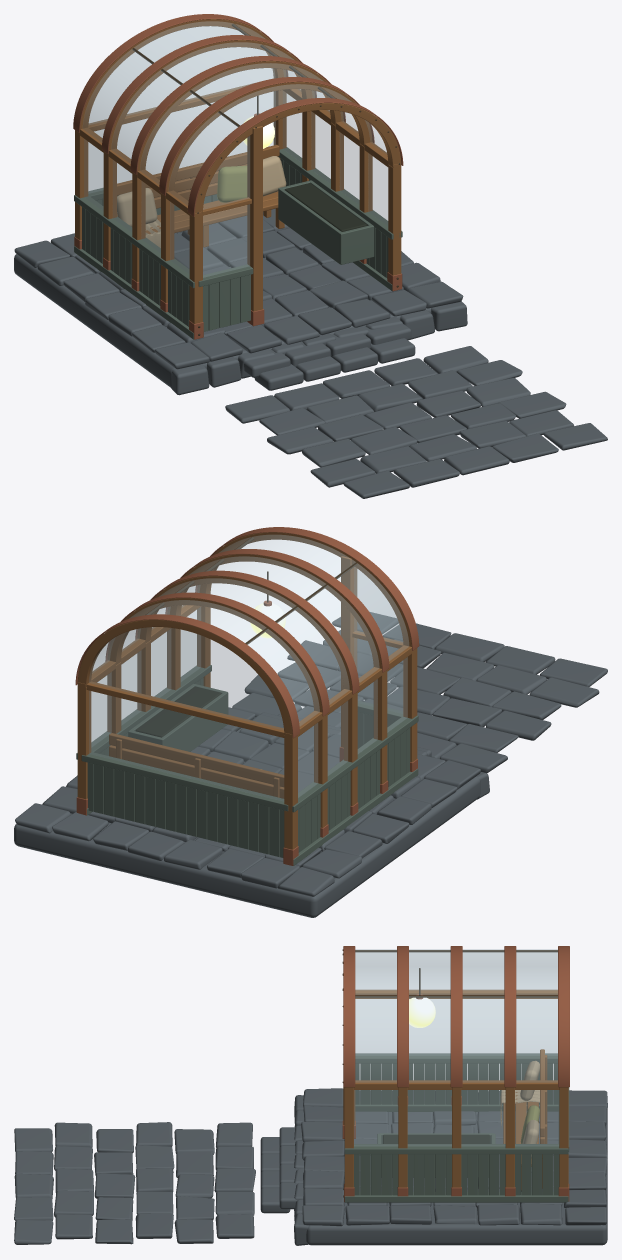
File: refuge.glb
The picture shows the model from 3 angles, top to bottom: view 1: azimuth 30°, elevation 25°; view 2: azimuth 150°, elevation 25°; view 3: azimuth 270°, elevation 25°; orthographic projection. The views are drawn at different scales.
Parts seen in each view (by area): view 1: Opaque_Basalt, Opaque_Oak, Opaque_Sage, Opaque_Copper, GlassPane_21, GlassPane_20, Opaque_Linen, GlassPane_22, GlassPane_02, GlassPane_05, GlassPane_11, GlassPane_08 (+15 smaller); view 2: Opaque_Basalt, Opaque_Oak, Opaque_Sage, GlassPane_20, GlassPane_21, Opaque_Copper, GlassPane_11, GlassPane_02, GlassPane_05, GlassPane_08, GlassPane_07, GlassPane_04 (+14 smaller); view 3: Opaque_Basalt, Opaque_Sage, Opaque_Copper, Opaque_Oak, GlassPane_00, GlassPane_03, GlassPane_09, GlassPane_06, GlassPane_18, GlassPane_16, GlassPane_17, GlassPane_19 (+16 smaller).
Boxes of the visible parts, x1=… form: Opaque_Basalt: x1=14, y1=208, x2=607, y2=498; Opaque_Oak: x1=75, y1=19, x2=401, y2=323; Opaque_Sage: x1=74, y1=147, x2=402, y2=339; Opaque_Copper: x1=73, y1=14, x2=403, y2=339; GlassPane_21: x1=89, y1=26, x2=274, y2=124; GlassPane_20: x1=89, y1=91, x2=275, y2=192; Opaque_Linen: x1=117, y1=156, x2=286, y2=247; GlassPane_22: x1=203, y1=204, x2=249, y2=277; GlassPane_02: x1=169, y1=112, x2=238, y2=205; GlassPane_05: x1=140, y1=91, x2=209, y2=184; GlassPane_11: x1=83, y1=49, x2=152, y2=142; GlassPane_08: x1=111, y1=70, x2=180, y2=163; Opaque_Basalt: x1=14, y1=612, x2=607, y2=917; Opaque_Oak: x1=77, y1=532, x2=417, y2=849; Opaque_Sage: x1=76, y1=665, x2=418, y2=865; GlassPane_20: x1=89, y1=691, x2=283, y2=800; GlassPane_21: x1=89, y1=627, x2=283, y2=729; Opaque_Copper: x1=75, y1=527, x2=419, y2=865; GlassPane_11: x1=247, y1=629, x2=319, y2=725; GlassPane_02: x1=337, y1=563, x2=408, y2=660; GlassPane_05: x1=307, y1=585, x2=379, y2=682; GlassPane_08: x1=277, y1=607, x2=349, y2=704; GlassPane_07: x1=176, y1=578, x2=295, y2=620; GlassPane_04: x1=205, y1=556, x2=325, y2=598; Opaque_Basalt: x1=14, y1=1088, x2=607, y2=1245; Opaque_Sage: x1=344, y1=1053, x2=569, y2=1202; Opaque_Copper: x1=342, y1=946, x2=569, y2=1201; Opaque_Oak: x1=343, y1=989, x2=568, y2=1190; GlassPane_00: x1=355, y1=996, x2=396, y2=1082; GlassPane_03: x1=409, y1=996, x2=450, y2=1082; GlassPane_09: x1=516, y1=996, x2=557, y2=1082; GlassPane_06: x1=463, y1=996, x2=503, y2=1082; GlassPane_18: x1=461, y1=1090, x2=505, y2=1146; GlassPane_16: x1=354, y1=1090, x2=397, y2=1146; GlassPane_17: x1=408, y1=1090, x2=451, y2=1146; GlassPane_19: x1=515, y1=1090, x2=558, y2=1146.
Bounding box in the file's own units: 4.72 × 3.7 × 8.85.
